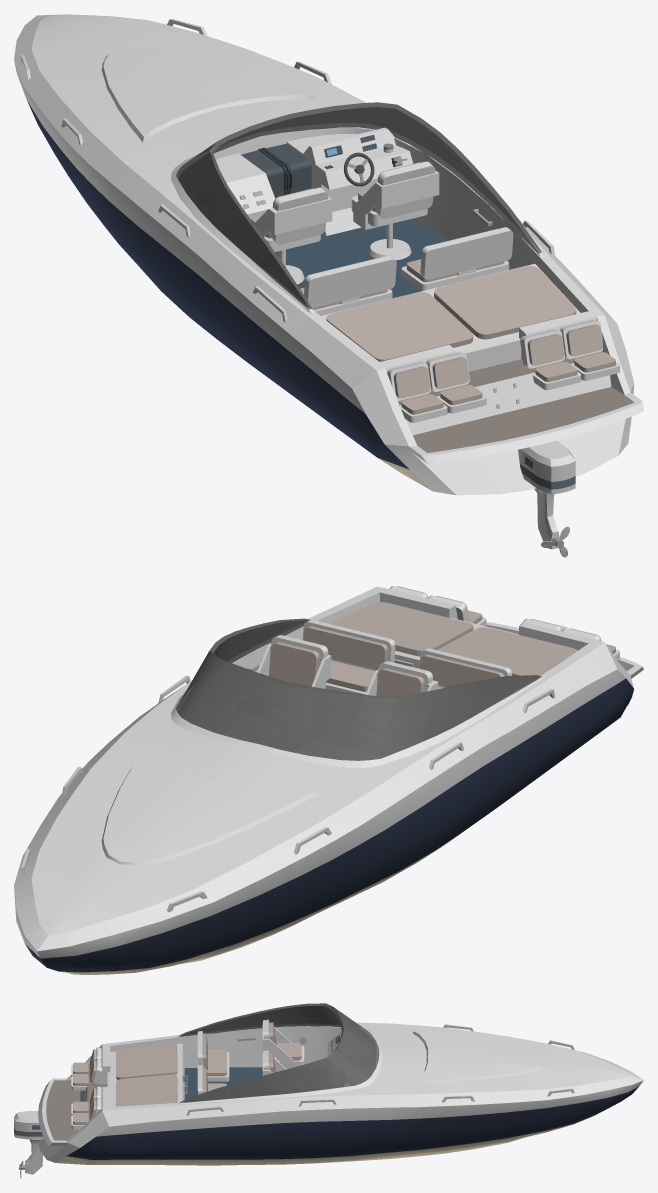
The model's file is motorboat.fbx.
3 renders of one model, top to bottom at view 1: azimuth 30°, elevation 25°; view 2: azimuth 150°, elevation 25°; view 3: azimuth 270°, elevation 25°, orthographic. The views are drawn at different scales.
Visible parts, largest first — view 1: motorboat_body, motorboat_glass, motorboat_back_pads, motorboat_front_pad, motorboat_panel, motorboat_back_seats, motorboat_seat_front_right, motorboat_seat_back_right, motorboat_seat_back_left, motorboat_seat_front_left, motorboat_engine, motorboat_back_board (+1 smaller); view 2: motorboat_body, motorboat_glass, motorboat_front_pad, motorboat_back_pads, motorboat_seat_back_right, motorboat_seat_front_right, motorboat_seat_back_left, motorboat_seat_front_left, motorboat_rails, motorboat_back_seats; view 3: motorboat_body, motorboat_glass, motorboat_front_pad, motorboat_back_pads, motorboat_back_seats, motorboat_seat_front_left, motorboat_engine, motorboat_seat_back_left, motorboat_back_board, motorboat_rails, motorboat_seat_back_right, motorboat_seat_front_right.
Part boxes in pixels (<box>): motorboat_body: <box>14,14,643,495</box>; motorboat_glass: <box>170,102,544,313</box>; motorboat_back_pads: <box>326,266,576,361</box>; motorboat_front_pad: <box>101,45,318,142</box>; motorboat_panel: <box>216,127,413,235</box>; motorboat_back_seats: <box>387,319,619,422</box>; motorboat_seat_front_right: <box>351,161,439,260</box>; motorboat_seat_back_right: <box>401,227,513,290</box>; motorboat_seat_back_left: <box>300,256,396,315</box>; motorboat_seat_front_left: <box>251,187,332,284</box>; motorboat_engine: <box>518,440,575,549</box>; motorboat_back_board: <box>321,263,580,371</box>; motorboat_body: <box>14,587,643,974</box>; motorboat_glass: <box>170,618,544,768</box>; motorboat_front_pad: <box>101,750,318,865</box>; motorboat_back_pads: <box>329,602,576,675</box>; motorboat_seat_back_right: <box>303,620,395,694</box>; motorboat_seat_front_right: <box>257,635,331,688</box>; motorboat_seat_back_left: <box>419,648,511,689</box>; motorboat_seat_front_left: <box>365,661,438,696</box>; motorboat_rails: <box>21,675,555,912</box>; motorboat_back_seats: <box>389,586,619,660</box>; motorboat_body: <box>38,1022,643,1165</box>; motorboat_glass: <box>177,1003,382,1104</box>; motorboat_front_pad: <box>413,1031,545,1084</box>; motorboat_back_pads: <box>115,1042,177,1106</box>; motorboat_back_seats: <box>71,1047,102,1129</box>; motorboat_seat_front_left: <box>262,1019,304,1069</box>; motorboat_engine: <box>14,1111,43,1174</box>; motorboat_seat_back_left: <box>197,1031,229,1081</box>; motorboat_back_board: <box>107,1043,187,1106</box>; motorboat_rails: <box>186,1024,574,1115</box>; motorboat_seat_back_right: <box>197,1065,226,1094</box>; motorboat_seat_front_right: <box>262,1050,286,1075</box>.
Bounding box in the file's own units: 212 × 175 × 679.
